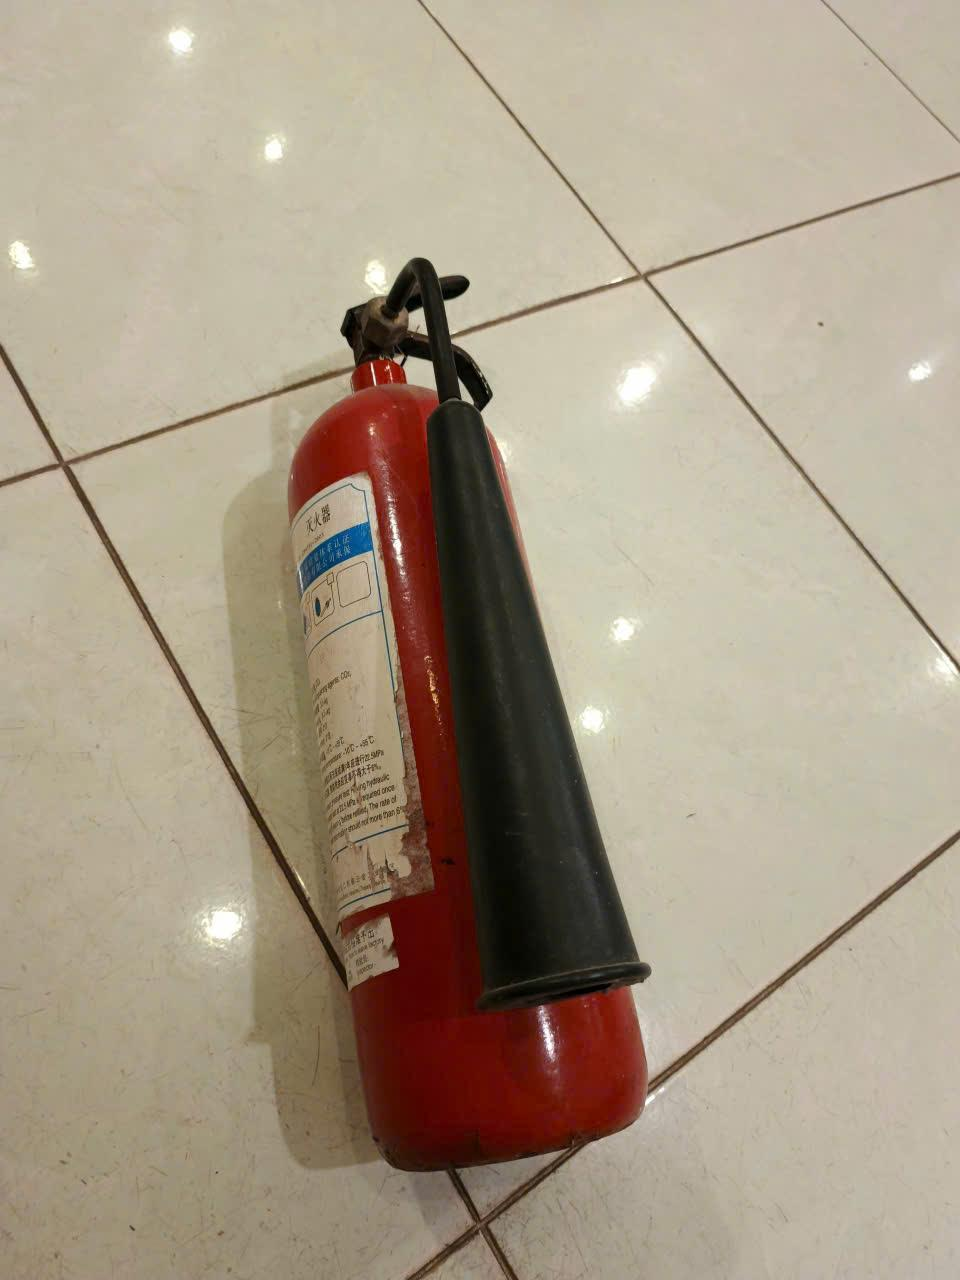Con lai: (285, 256, 648, 1178)
